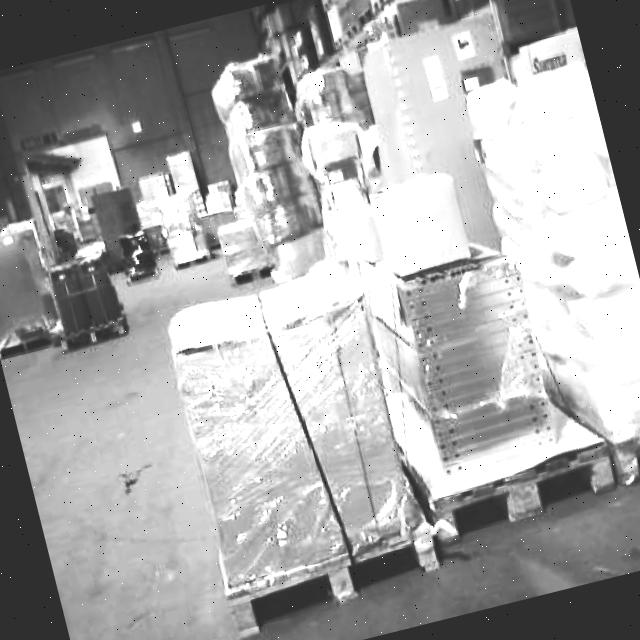ground: (0, 134, 640, 640)
pallet: (332, 148, 621, 547), (152, 254, 447, 639), (381, 343, 623, 549), (247, 0, 580, 122), (418, 438, 623, 545)
